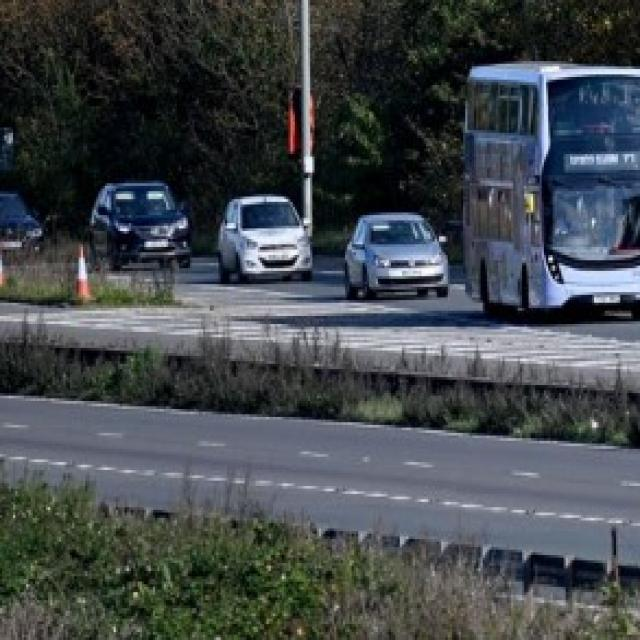bus: (463, 56, 640, 321)
car: (343, 208, 451, 299), (86, 180, 192, 271), (214, 194, 314, 279), (0, 194, 46, 266)
